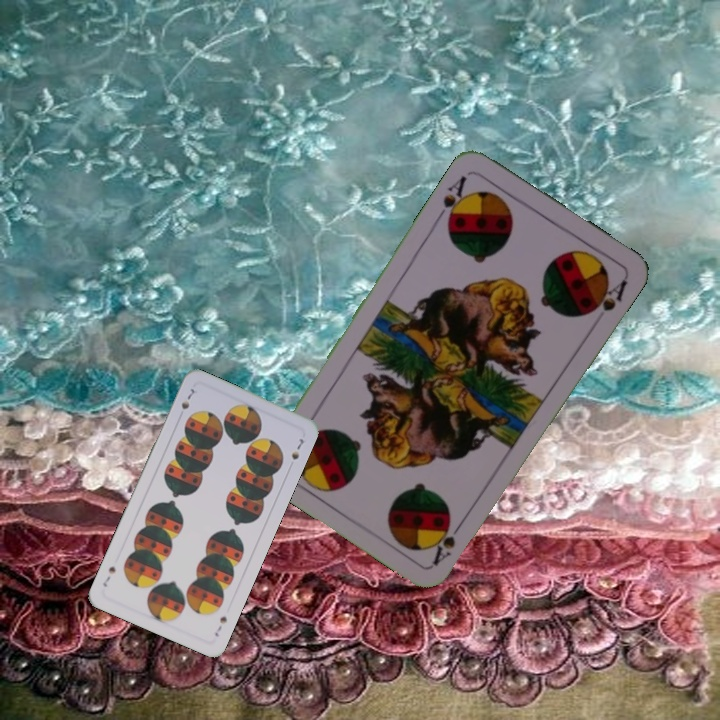S7: (177, 384, 200, 412), (210, 612, 230, 639)
SA: (433, 171, 473, 228), (428, 515, 467, 568)
